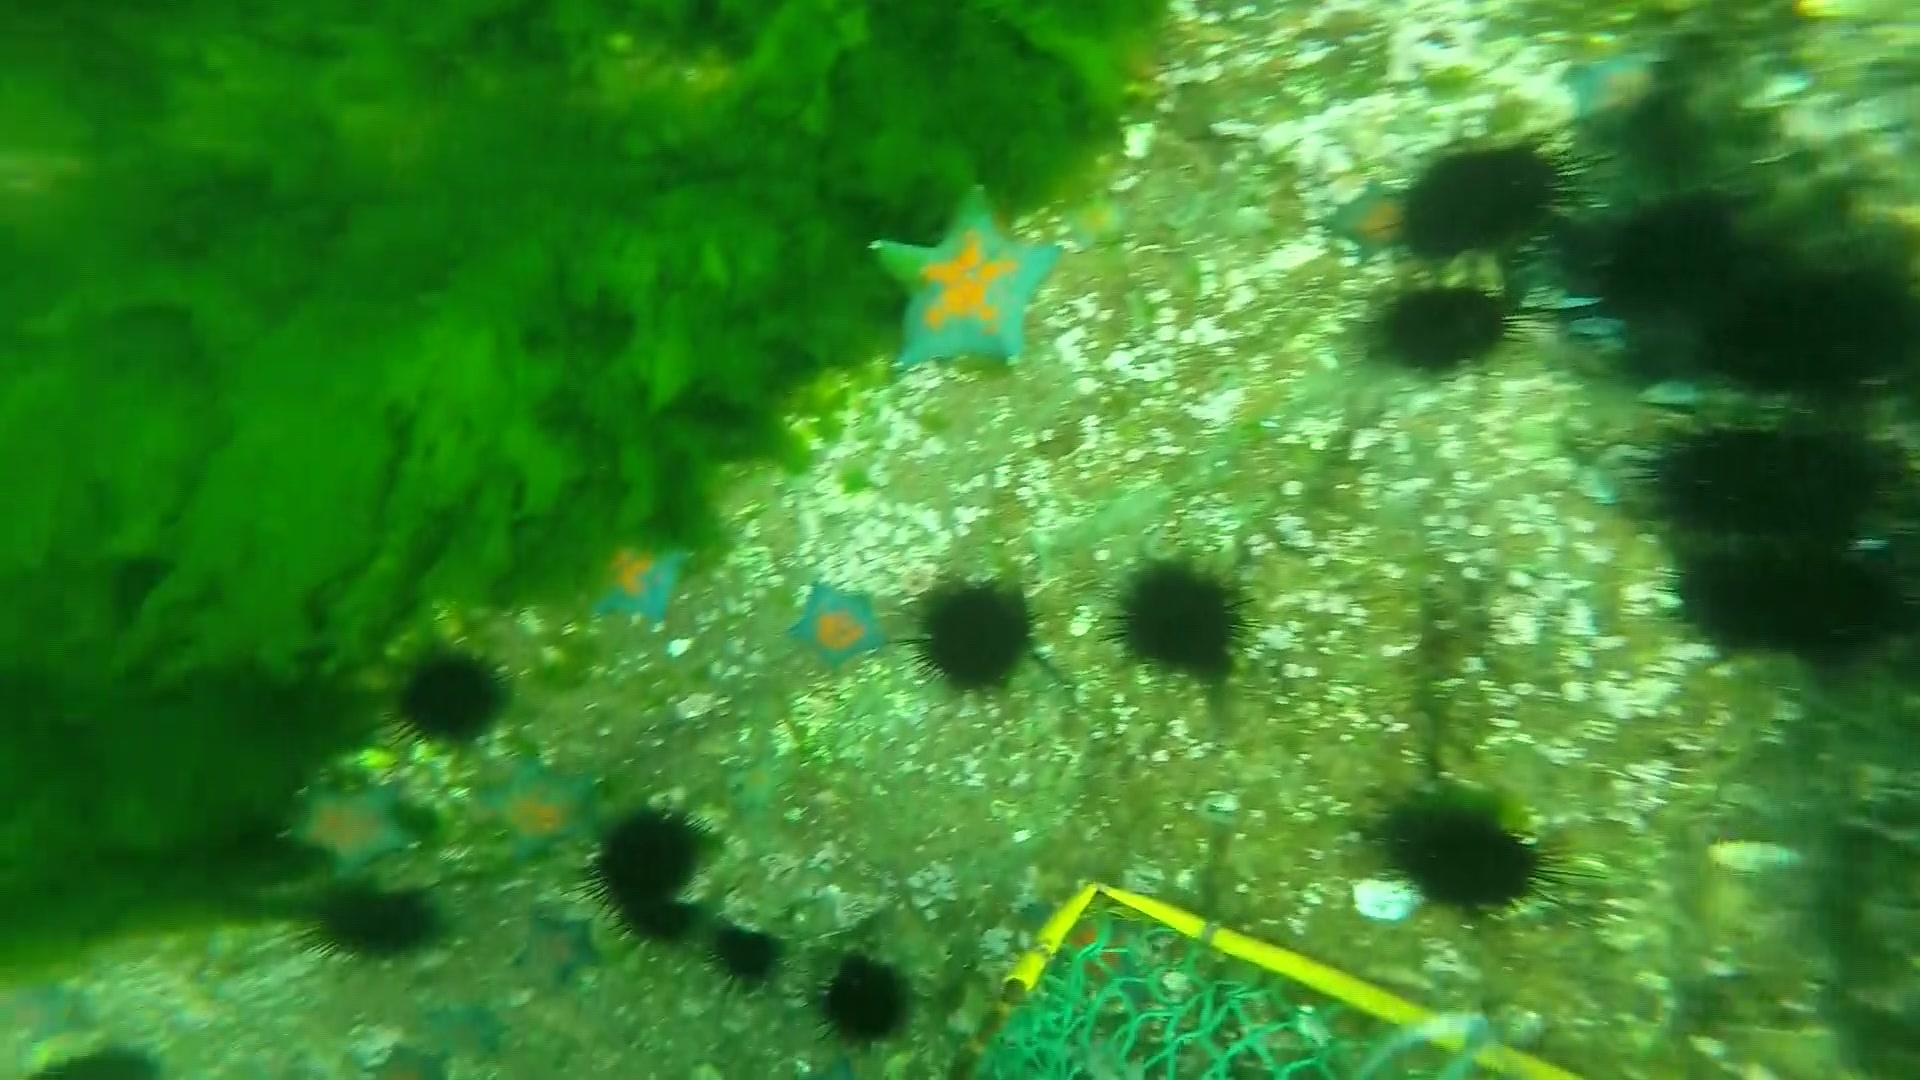echinus: (1625, 409, 1920, 535), (1655, 534, 1920, 673), (1677, 266, 1920, 397), (1371, 803, 1610, 928), (1400, 132, 1615, 268), (1557, 186, 1764, 316), (1095, 558, 1269, 688), (564, 804, 723, 924), (887, 578, 1044, 696), (376, 645, 520, 770), (1371, 281, 1553, 376), (287, 876, 455, 977), (806, 949, 913, 1050), (1625, 90, 1722, 178), (698, 923, 791, 993), (603, 898, 709, 953), (30, 1042, 171, 1080)
starfish: (858, 178, 1068, 372), (465, 764, 603, 860), (294, 777, 422, 873), (785, 578, 899, 674), (592, 539, 694, 632), (1560, 50, 1662, 136), (512, 914, 608, 997), (1331, 181, 1423, 264), (1062, 189, 1137, 251)
